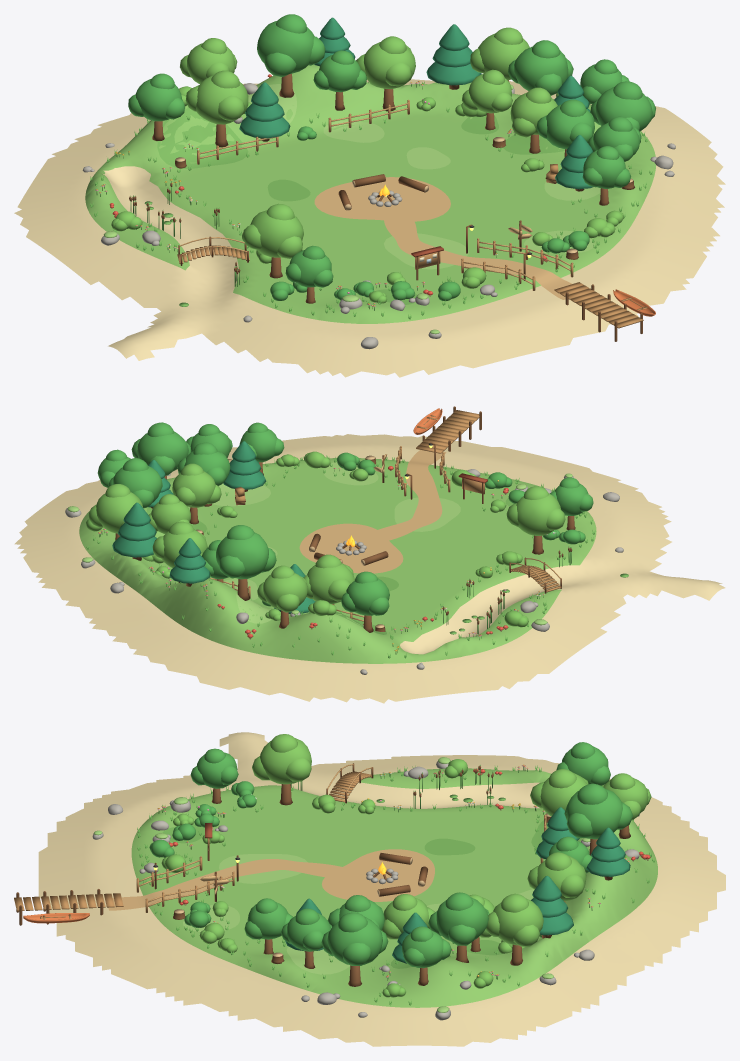
The model's file is campground.glb.
3 renders of one model, top to bottom at view 1: azimuth 30°, elevation 25°; view 2: azimuth 150°, elevation 25°; view 3: azimuth 270°, elevation 25°, orthographic. The views are drawn at different scales.
Visible parts, largest first — view 1: campground-sand, campground-grass-base, campground-leaf, campground-leaf-light, campground-pine, campground-dirt, campground-grass-deep, campground-grass-light, campground-bark, campground-plank, campground-stone, campground-fence-rail (+2 smaller); view 2: campground-sand, campground-grass-base, campground-leaf, campground-leaf-light, campground-dirt, campground-pine, campground-grass-light, campground-plank, campground-bark, campground-stone, campground-grass, campground-grass-deep (+1 smaller); view 3: campground-sand, campground-grass-base, campground-leaf, campground-leaf-light, campground-dirt, campground-pine, campground-bark, campground-grass-light, campground-plank, campground-stone, campground-grass-deep, campground-grass (+3 smaller).
Part boxes in pixels (x1,y1,x2,y2): campground-sand: (14,79,725,377); campground-grass-base: (85,64,655,323); campground-leaf: (128,14,655,301); campground-leaf-light: (111,27,623,303); campground-pine: (239,17,593,189); campground-dirt: (314,177,571,299); campground-grass-deep: (144,105,564,306); campground-grass-light: (103,84,600,334); campground-bark: (129,73,642,341); campground-plank: (177,99,647,328); campground-stone: (82,83,675,349); campground-fence-rail: (179,103,570,284); campground-sand: (14,434,725,703); campground-grass-base: (79,458,596,663); campground-leaf: (97,422,593,615); campground-leaf-light: (86,451,565,627); campground-dirt: (299,450,446,573); campground-pine: (112,441,315,613); campground-grass-light: (67,461,572,625); campground-plank: (215,410,561,618); campground-bark: (115,406,575,632); campground-stone: (65,469,623,674); campground-grass: (86,455,595,658); campground-grass-deep: (146,498,628,634); campground-sand: (38,732,725,1046); campground-grass-base: (131,768,657,1007); campground-leaf: (149,742,633,968); campground-leaf-light: (161,734,651,997); campground-dirt: (108,849,434,910); campground-pine: (285,807,630,963); campground-bark: (16,763,630,986); campground-grass-light: (94,757,590,1012); campground-plank: (14,771,546,919); campground-stone: (92,761,639,1020); campground-grass-deep: (162,794,547,968); campground-grass: (137,765,655,1005).
Size of what is drawn, in the model's own units: 41 by 7.22 by 39.36.
